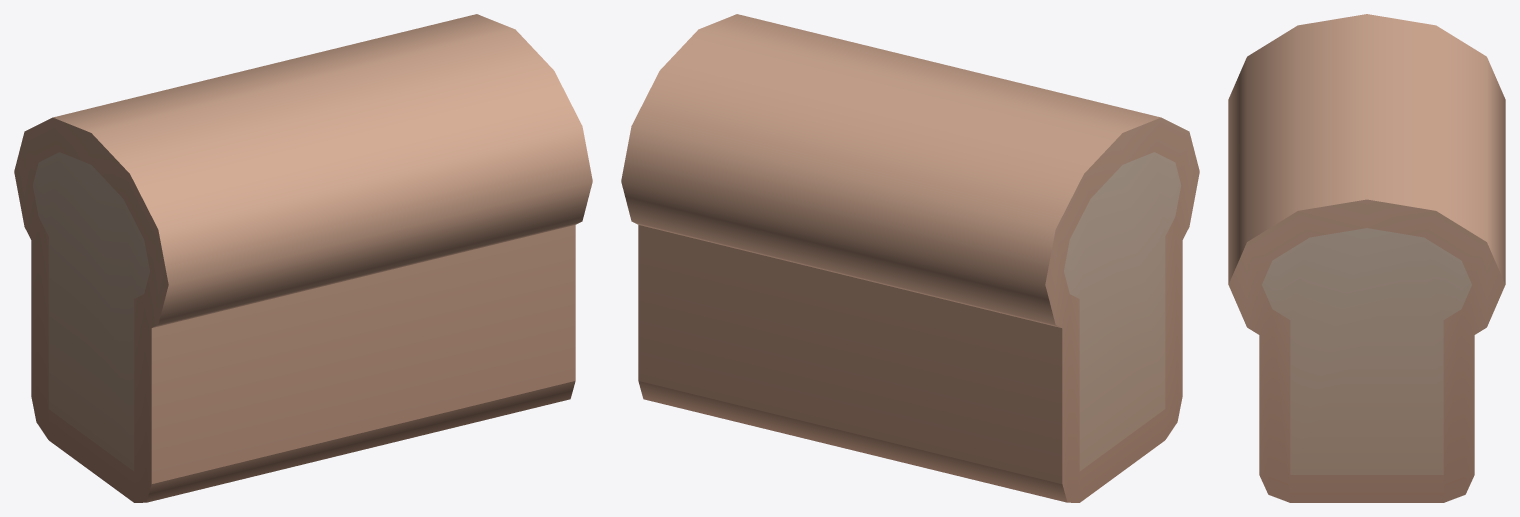
The model's file is loaf.glb.
3 renders of one model, left to right at view 1: azimuth 30°, elevation 25°; view 2: azimuth 150°, elevation 25°; view 3: azimuth 270°, elevation 25°, orthographic. The views are drawn at different scales.
Visible parts, largest first — view 1: loaf; view 2: loaf; view 3: loaf.
Part boxes in pixels (x1,y1,x2,y2): loaf: (14,14,592,502); loaf: (621,14,1199,502); loaf: (1228,14,1505,502).
Bounding box in the file's own units: 0.5797 × 0.4423 × 0.3659.
